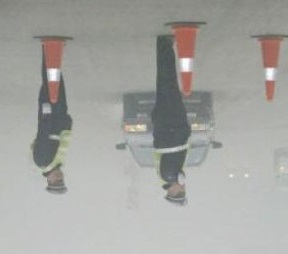person: (151, 31, 188, 206), (31, 53, 72, 195)
